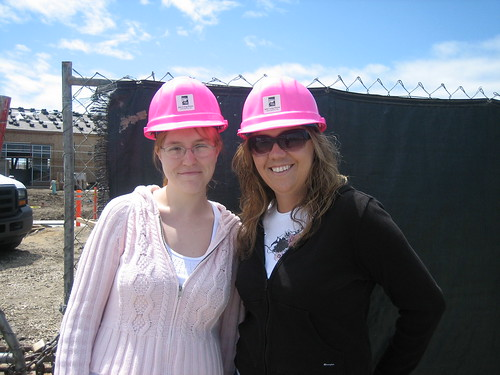person hardhat: (227, 68, 432, 371), (102, 73, 241, 375)
